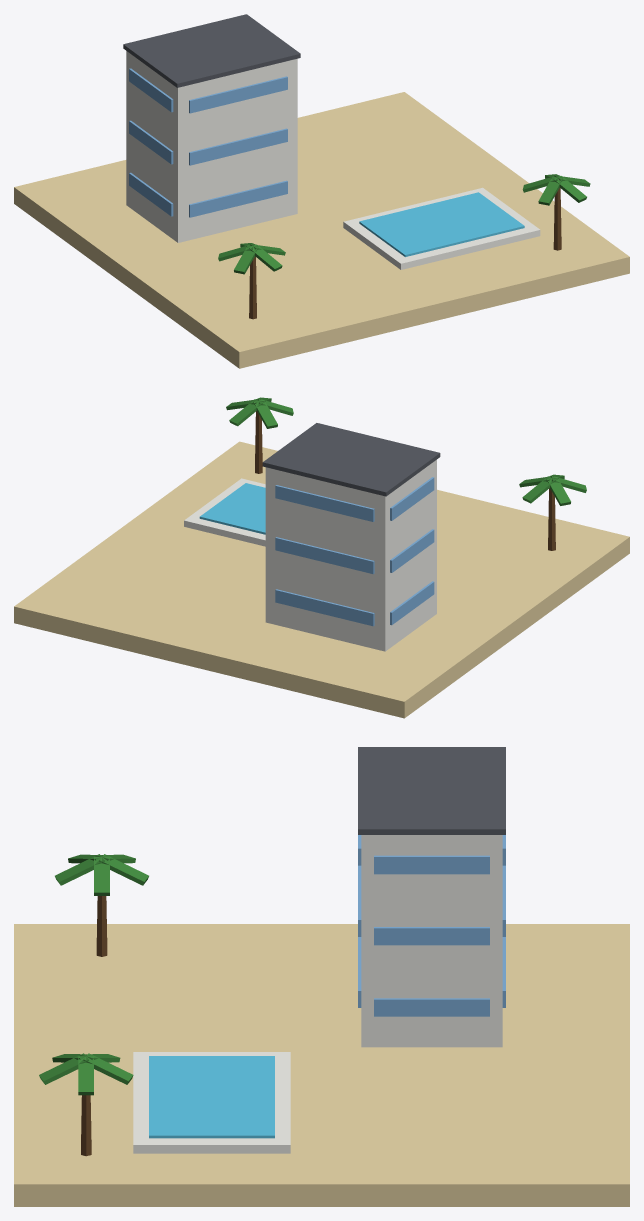
File: tourism_rent_2.glb
3 renders of one model, top to bottom at view 1: azimuth 30°, elevation 25°; view 2: azimuth 150°, elevation 25°; view 3: azimuth 270°, elevation 25°, orthographic. The views are drawn at different scales.
Visible parts, largest first — view 1: tourism_rent_2; view 2: tourism_rent_2; view 3: tourism_rent_2.
Part boxes in pixels (x1,y1,x2,y2): tourism_rent_2: (14, 14, 629, 368); tourism_rent_2: (14, 397, 629, 718); tourism_rent_2: (14, 747, 629, 1206).
Size of the model in its own units: 1.96 by 0.85 by 1.96.
